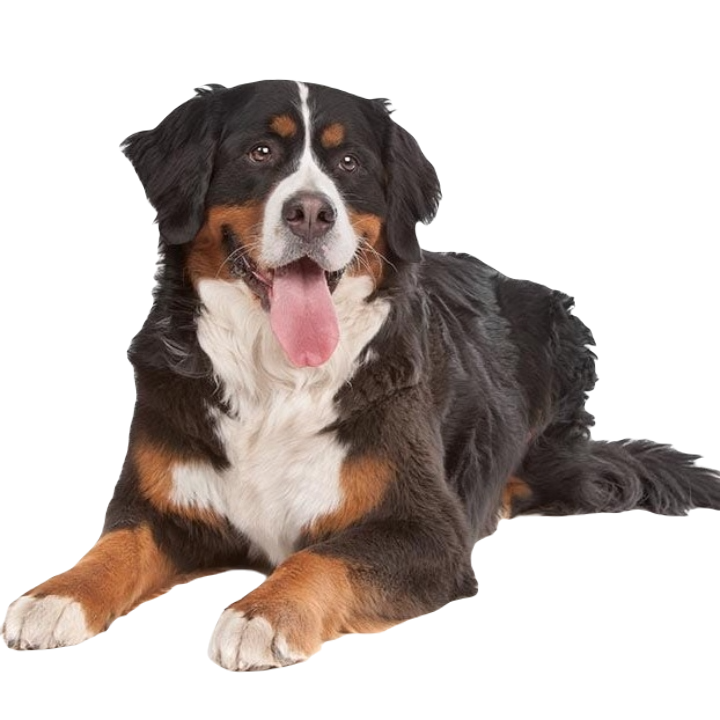Dog: (0, 70, 720, 674)
